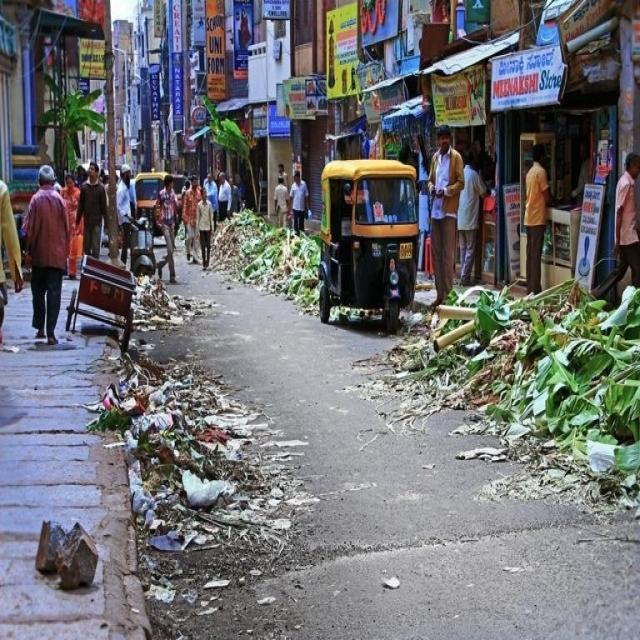garbage: (390, 320, 640, 528), (112, 372, 288, 572), (229, 220, 317, 305), (129, 270, 213, 334)
